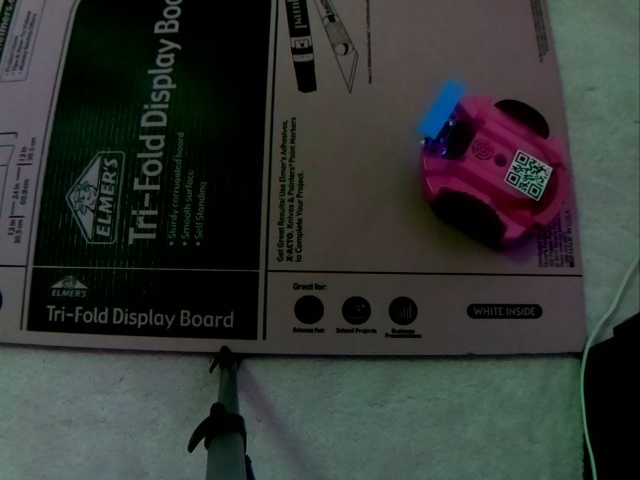chassis: (407, 78, 576, 250)
qr: (501, 145, 558, 206)
